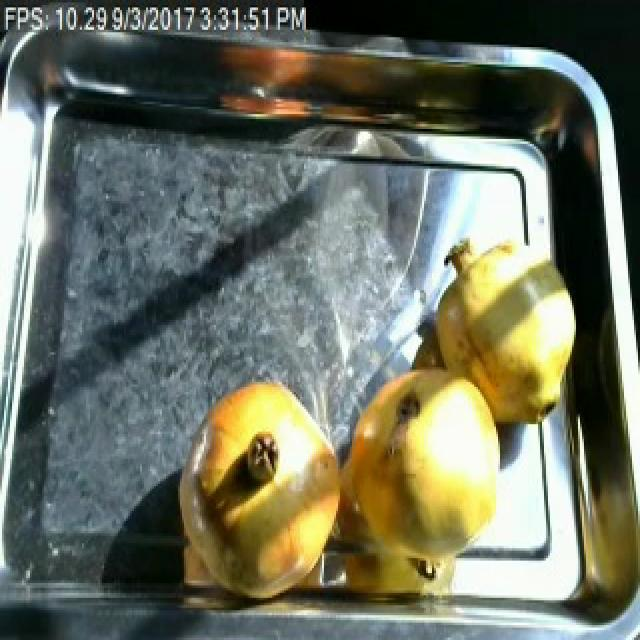fruit: (336, 350, 512, 600), (172, 367, 352, 605), (422, 230, 580, 437)
